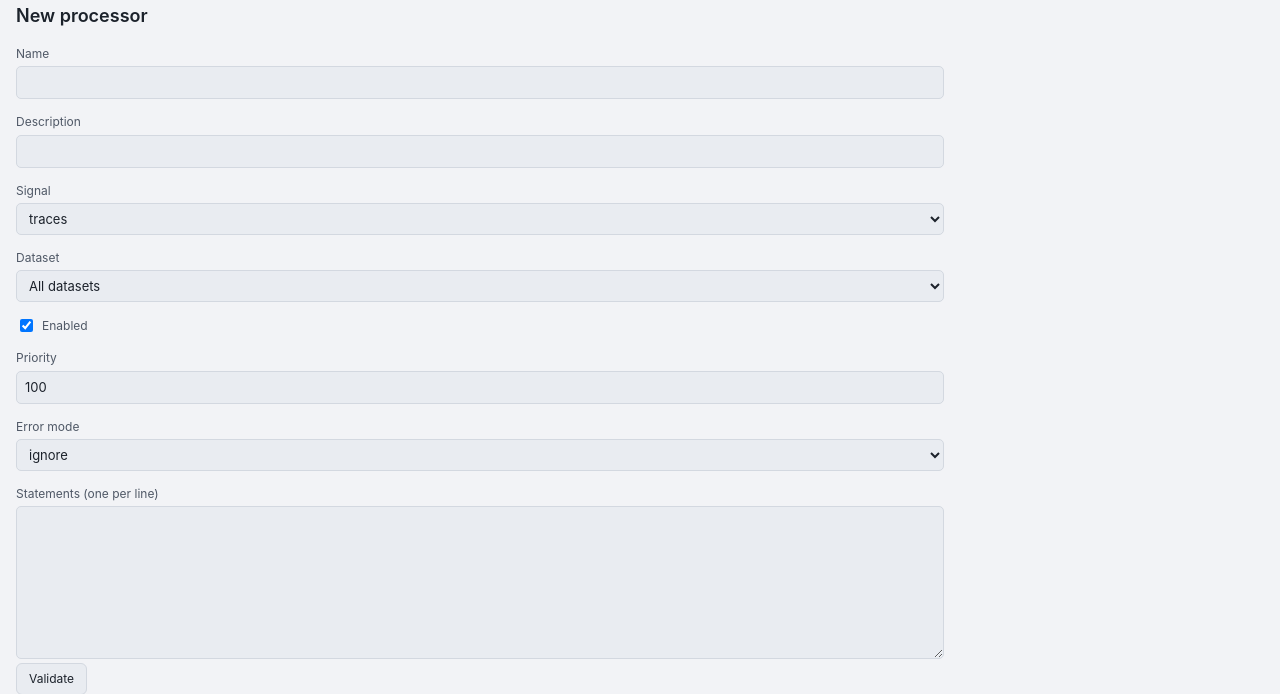
Test: ProcessorEditor › renders the test panel diff and per-statement counts
The width and height of the screenshot is (1280, 694).
Expected: the field labelled "Name" is shown, [16,66,944,99]
Select "logs" in the dropdown labelled "Signal": (480, 219) [16,203,944,235]
(page scrolled)
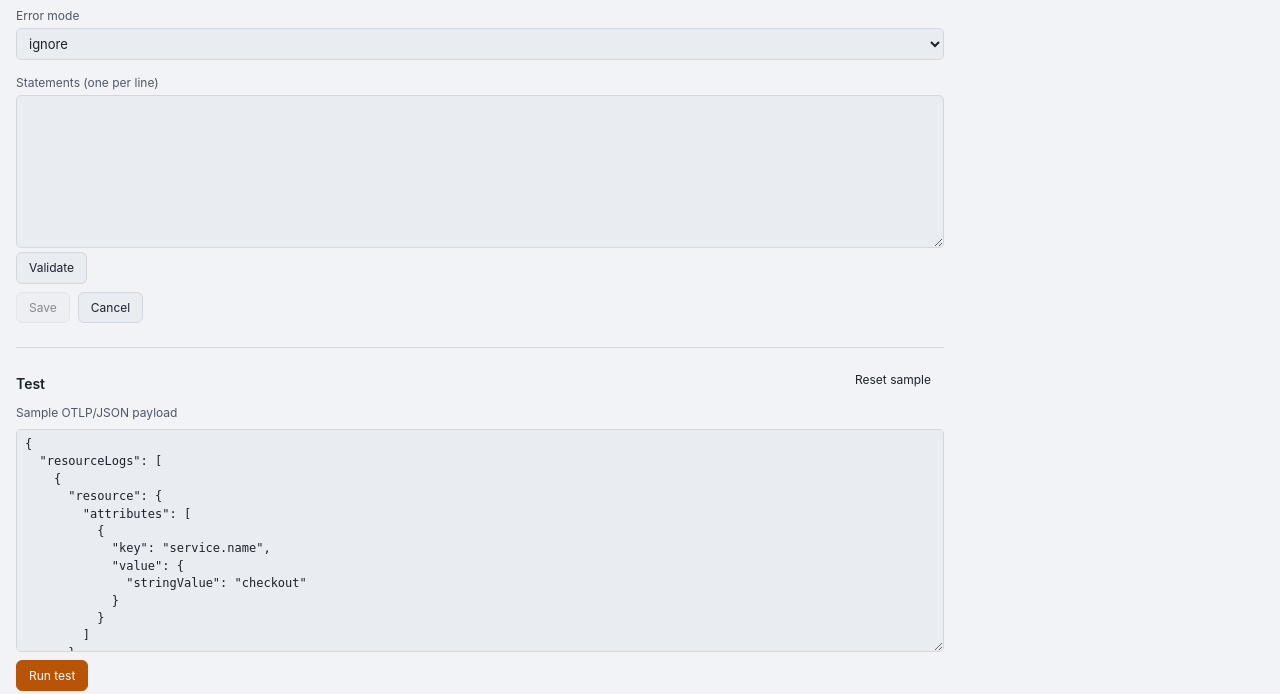
Click the button "Run test": (52, 675) [16,660,88,691]
(page scrolled)
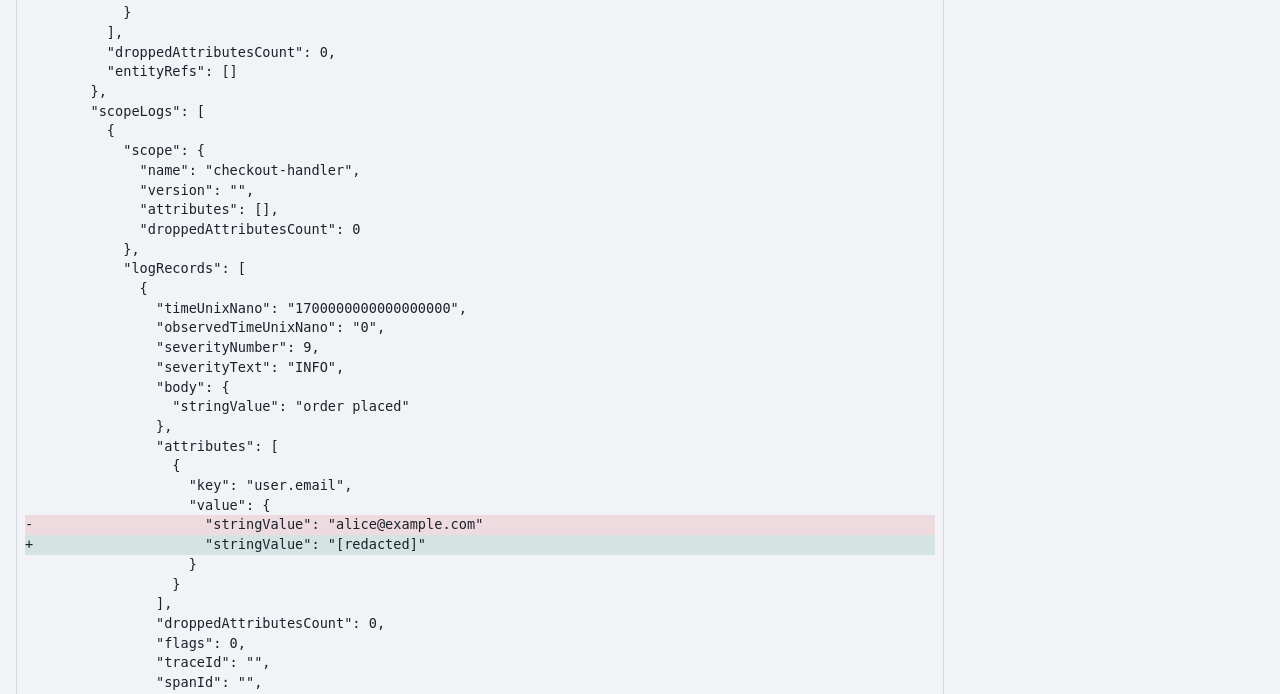
Result: the element named "diff" shows "[redacted]" at [41,536,426,552]
